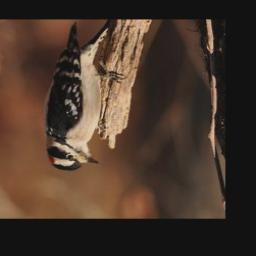Woodpecker: (44, 23, 127, 176)
